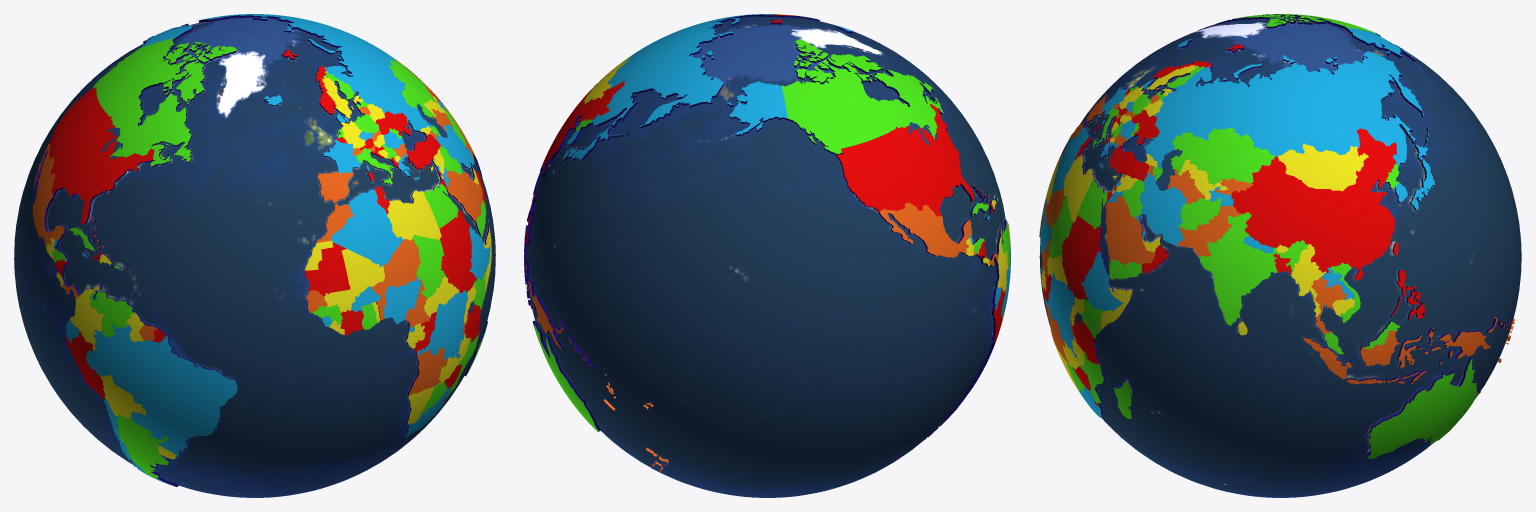
The picture shows the model from 3 angles, left to right: view 1: azimuth 30°, elevation 25°; view 2: azimuth 150°, elevation 25°; view 3: azimuth 270°, elevation 25°; orthographic projection.
Visible parts, largest first — view 1: Dunya_Earth, Z-Brazil, Z-Canada, Z-United States, Z-Russia, Z-Algeria, Z-Niger (×2), Z-Sudan, Z-Democratic republic of the Congo, Z-Lybia, Z-Argentina, Z-Mali (+22 smaller); view 2: Dunya_Earth, Z-Canada, Z-United States, Z-Russia, Z-Mexico, Z-United States Artic circle, Z-China, Z-Australia, Z-Indonesia, Z-Columbia; view 3: Dunya_Earth, Z-Russia, Z-China, Z-Australia, Z-India, Z-Kazakhstan, Z-Indonesia, Z-Mongolia, Z-Saudi Arabia, Z-Sudan, Z-Iran, Z-Pakistan (+25 smaller).
Part boxes in pixels (left/top/right/bottom): Dunya_Earth: left=14, top=17, right=495, bottom=497; Z-Brazil: left=86, top=325, right=237, bottom=456; Z-Canada: left=93, top=38, right=237, bottom=167; Z-United States: left=49, top=87, right=154, bottom=224; Z-Russia: left=198, top=14, right=432, bottom=132; Z-Algeria: left=331, top=189, right=404, bottom=266; Z-Niger (×2): left=371, top=238, right=421, bottom=323; Z-Sudan: left=439, top=210, right=476, bottom=292; Z-Democratic republic of the Congo: left=417, top=290, right=468, bottom=360; Z-Lybia: left=387, top=191, right=441, bottom=240; Z-Argentina: left=116, top=414, right=178, bottom=486; Z-Mali: left=324, top=249, right=384, bottom=312; Dunya_Earth: left=526, top=16, right=1005, bottom=497; Z-Canada: left=781, top=39, right=943, bottom=154; Z-United States: left=836, top=104, right=974, bottom=216; Z-Russia: left=591, top=14, right=772, bottom=127; Z-Mexico: left=877, top=202, right=972, bottom=257; Z-United States Artic circle: left=727, top=81, right=787, bottom=135; Z-China: left=540, top=78, right=625, bottom=171; Z-Australia: left=532, top=320, right=600, bottom=431; Z-Indonesia: left=524, top=238, right=593, bottom=367; Z-Columbia: left=995, top=229, right=1007, bottom=293; Dunya_Earth: left=1039, top=18, right=1521, bottom=497; Z-Russia: left=1144, top=51, right=1423, bottom=168; Z-China: left=1231, top=128, right=1396, bottom=280; Z-Australia: left=1366, top=358, right=1478, bottom=458; Z-India: left=1198, top=212, right=1308, bottom=325; Z-Kazakhstan: left=1171, top=128, right=1275, bottom=186; Z-Indonesia: left=1303, top=316, right=1509, bottom=384; Z-Mongolia: left=1278, top=143, right=1368, bottom=191; Z-Saudi Arabia: left=1105, top=196, right=1155, bottom=265; Z-Sudan: left=1061, top=215, right=1102, bottom=300; Z-Iran: left=1140, top=173, right=1186, bottom=245; Z-Pakistan: left=1177, top=205, right=1240, bottom=256.
Bounding box in the file's own units: 6700 × 6705 × 6706.
